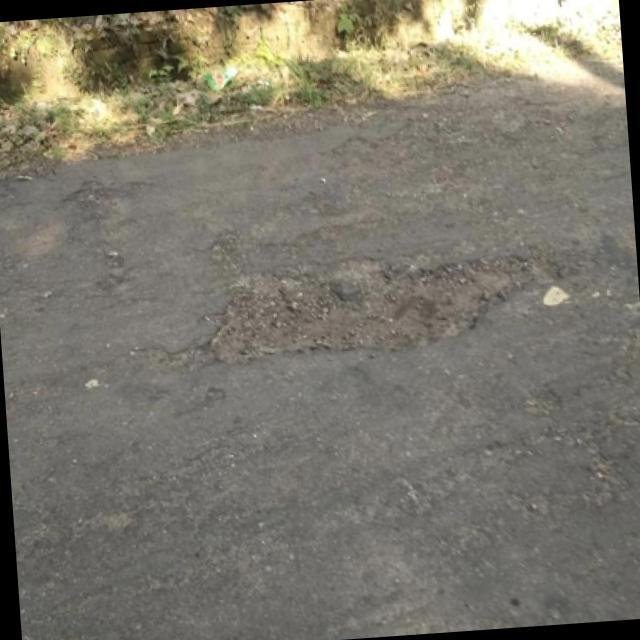Pothole: (210, 245, 553, 361)
